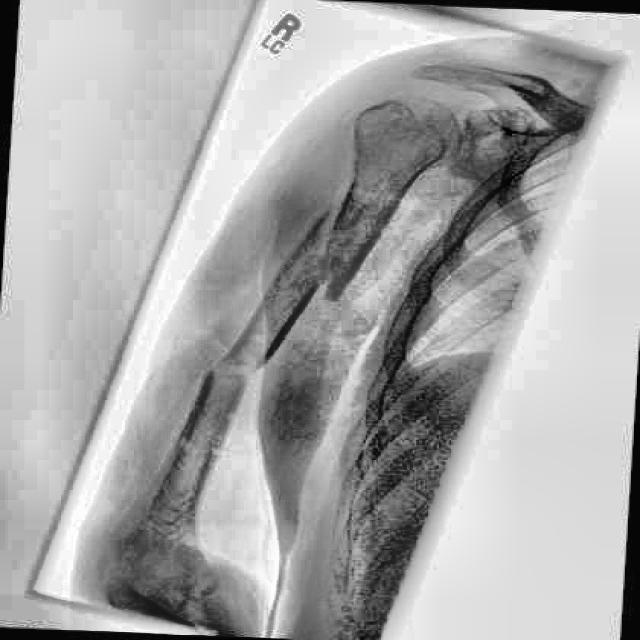humerus: (270, 175, 408, 330), (165, 319, 310, 441)
